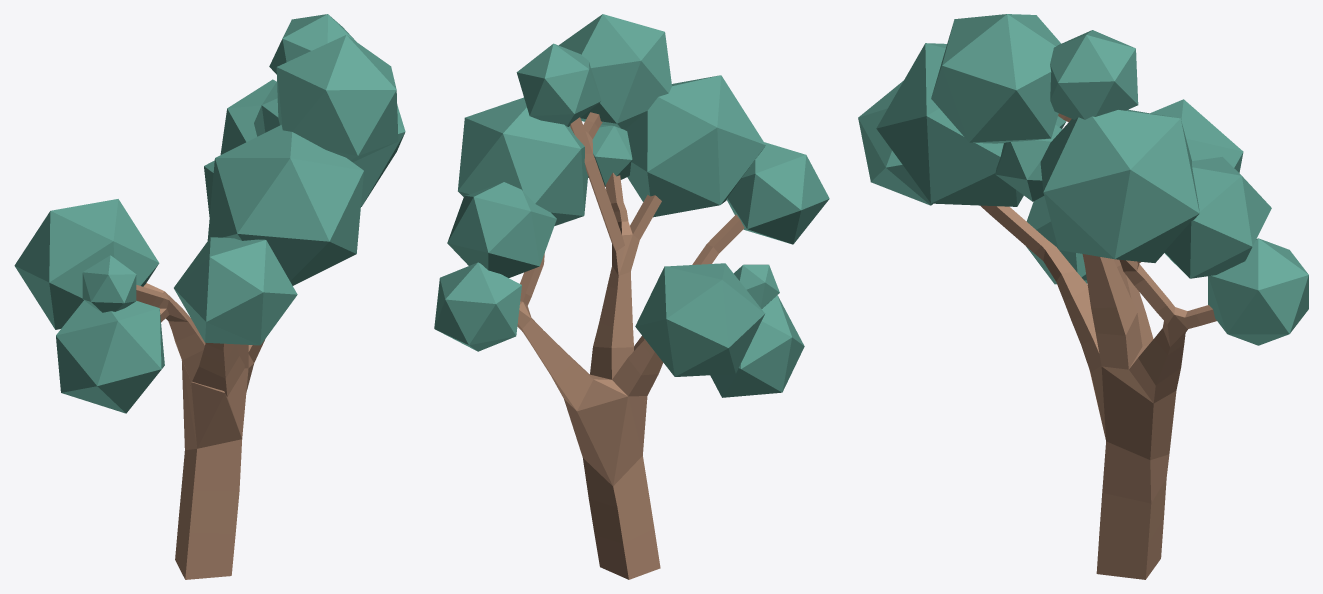
File: tree4.fbx
The picture shows the model from 3 angles, left to right: view 1: azimuth 30°, elevation 25°; view 2: azimuth 150°, elevation 25°; view 3: azimuth 270°, elevation 25°; orthographic projection. The views are drawn at different scales.
Parts seen in each view (by area): view 1: leaves1, trunk1; view 2: leaves1, trunk1; view 3: leaves1, trunk1.
Boxes of the visible parts, bbox=[...] form: leaves1: bbox=[14, 14, 405, 413]; trunk1: bbox=[136, 283, 264, 579]; leaves1: bbox=[434, 14, 829, 397]; trunk1: bbox=[517, 112, 744, 579]; leaves1: bbox=[858, 14, 1308, 345]; trunk1: bbox=[980, 113, 1216, 579].
Size of the model in its own units: 425 by 641 by 438.
